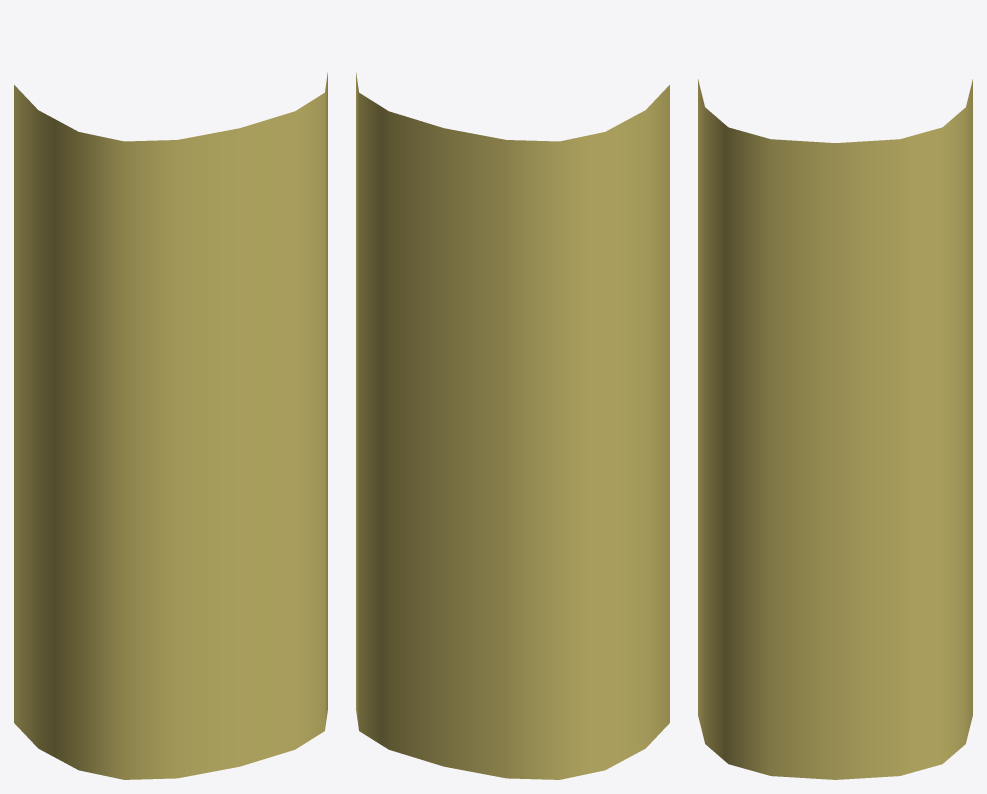
File: rubrospinal-tract.glb
3 renders of one model, left to right at view 1: azimuth 30°, elevation 25°; view 2: azimuth 150°, elevation 25°; view 3: azimuth 270°, elevation 25°, orthographic.
Visible parts, largest first — view 1: Rubrospinal tract; view 2: Rubrospinal tract; view 3: Rubrospinal tract.
Boxes of the visible parts, x1,y1,x2,y2 form: Rubrospinal tract: [14, 72, 327, 779]; Rubrospinal tract: [356, 72, 669, 779]; Rubrospinal tract: [698, 79, 972, 779].
Size of the model in its own units: 0.00217 by 0.005 by 0.00196.
